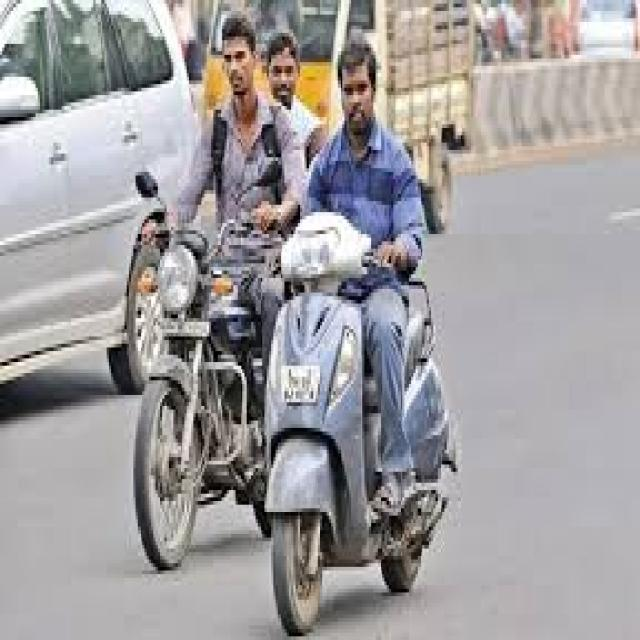No Helmet: (311, 11, 476, 273), (162, 0, 330, 213)
